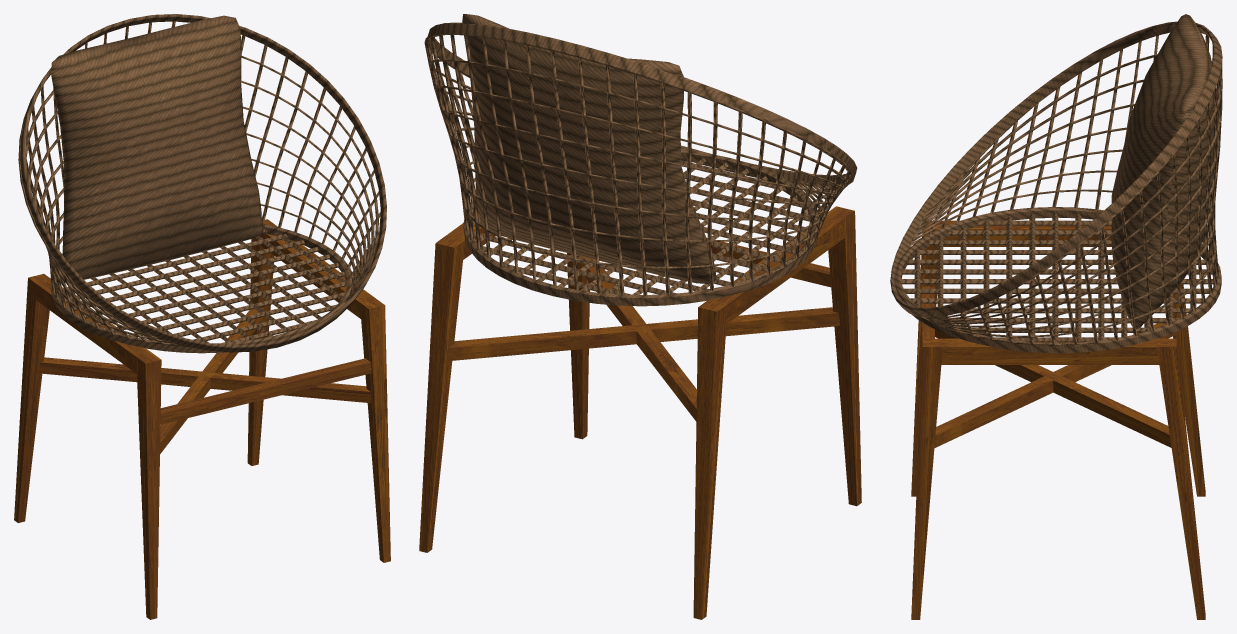
The model's file is Alma-Chair.glb.
The picture shows the model from 3 angles, left to right: view 1: azimuth 30°, elevation 25°; view 2: azimuth 150°, elevation 25°; view 3: azimuth 270°, elevation 25°; orthographic projection. The views are drawn at different scales.
Visible parts, largest first — view 1: Cube.003, BezierCircle.005, Plane, Cube.004, BezierCircle.002, Cube.006, Cube.012, Cube.008, Cube.005, Cube.007; view 2: Cube.003, BezierCircle.005, BezierCircle.002, Cube.004, Plane, Cube.006, Cube.007, Cube.005, Cube.012, Cube.008; view 3: BezierCircle.005, Cube.003, BezierCircle.002, Plane, Cube.004, Cube.005, Cube.007, Cube.012, Cube.006.
Part boxes in pixels (<box>): Cube.003: <box>51,15,263,279</box>; BezierCircle.005: <box>18,21,380,346</box>; Plane: <box>58,229,347,343</box>; Cube.004: <box>35,226,390,619</box>; BezierCircle.002: <box>20,14,386,353</box>; Cube.006: <box>14,274,50,522</box>; Cube.012: <box>38,357,371,403</box>; Cube.008: <box>160,358,371,424</box>; Cube.005: <box>247,219,276,465</box>; Cube.007: <box>160,308,265,453</box>; Cube.003: <box>462,14,716,283</box>; BezierCircle.005: <box>424,33,852,295</box>; BezierCircle.002: <box>427,22,857,306</box>; Cube.004: <box>447,206,861,506</box>; Plane: <box>472,157,810,294</box>; Cube.006: <box>693,299,727,619</box>; Cube.007: <box>447,307,840,361</box>; Cube.005: <box>419,235,464,552</box>; Cube.012: <box>577,255,696,421</box>; Cube.008: <box>706,237,830,287</box>; BezierCircle.005: <box>910,35,1222,345</box>; Cube.003: <box>1111,14,1213,328</box>; BezierCircle.002: <box>890,21,1222,353</box>; Plane: <box>901,212,1213,342</box>; Cube.004: <box>911,220,1159,619</box>; Cube.005: <box>1156,338,1205,619</box>; Cube.007: <box>922,327,1171,447</box>; Cube.012: <box>934,323,1184,448</box>; Cube.006: <box>1173,284,1205,496</box>.
Size of the model in its own units: 0.6246 by 0.8355 by 0.4971.
2 materials, 2 textured.
